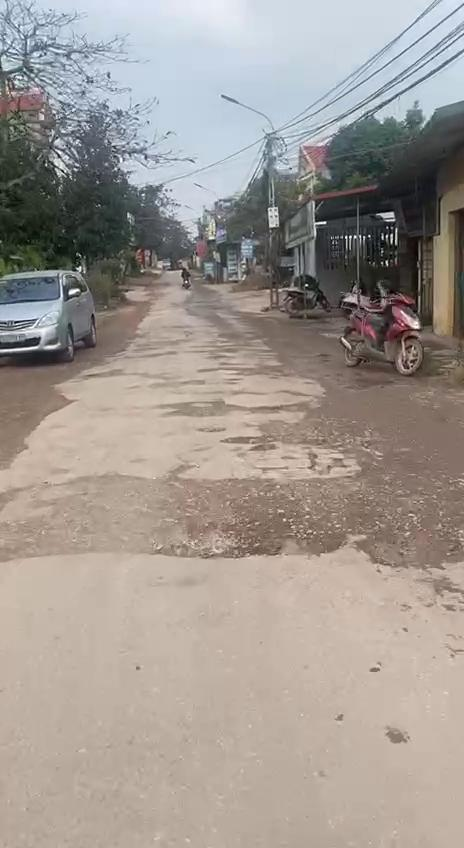pothole: (157, 478, 365, 558), (15, 479, 159, 560), (356, 508, 464, 568), (289, 430, 368, 476), (166, 397, 230, 420), (218, 432, 278, 456)
